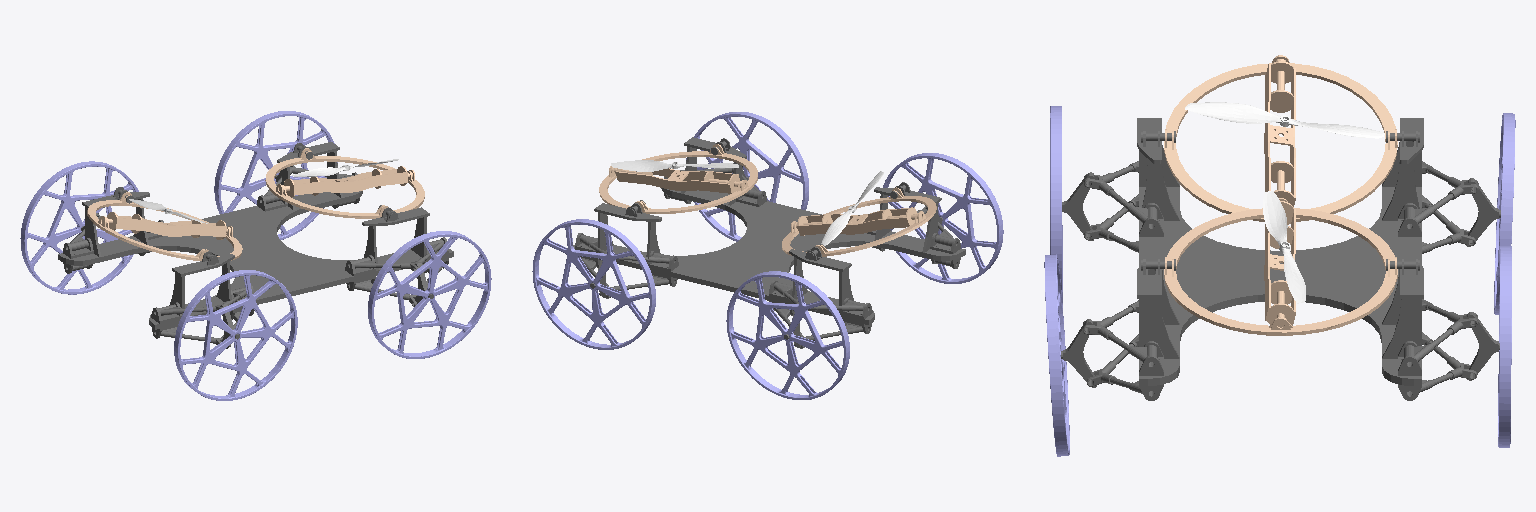
URDF robot description (wcr):
<?xml version="1.0" encoding="utf-8"?>
<!-- This URDF was automatically created by SolidWorks to URDF Exporter! Originally created by Stephen Brawner (brawner@gmail.com) 
     Commit Version: 1.6.0-4-g7f85cfe  Build Version: 1.6.7995.38578
     For more information, please see http://wiki.ros.org/sw_urdf_exporter -->
<robot
  name="wcr">
  <link
    name="base_link">
    <inertial>
      <origin
        xyz="0.173339179316469 0.249161564117283 0.498560226449958"
        rpy="0 0 0" />
      <mass
        value="1.15913352868688" />
      <inertia
        ixx="0.013266326041051"
        ixy="-2.41447331341141E-12"
        ixz="4.40344155207792E-05"
        iyy="0.0298435837404179"
        iyz="3.57155377728949E-08"
        izz="0.0175448598140055" />
    </inertial>
    <visual>
      <origin
        xyz="0 0 0"
        rpy="0 0 0" />
      <geometry>
        <mesh
          filename="package://wcr/meshes/base_link.STL" />
      </geometry>
      <material
        name="">
        <color
          rgba="0.501960784313725 0.501960784313725 0.501960784313725 1" />
      </material>
    </visual>
    <collision>
      <origin
        xyz="0 0 0"
        rpy="0 0 0" />
      <geometry>
        <mesh
          filename="package://wcr/meshes/base_link.STL" />
      </geometry>
    </collision>
  </link>
  <link
    name="wheel1">
    <inertial>
      <origin
        xyz="8.53677939421926E-07 -2.47264731600971E-06 0.0103720211226875"
        rpy="0 0 0" />
      <mass
        value="0.130552212312424" />
      <inertia
        ixx="0.000629069787955321"
        ixy="1.82875262493693E-08"
        ixz="9.26161101021166E-12"
        iyy="0.000629039631470797"
        iyz="-4.03883615855243E-11"
        izz="0.00125431132315017" />
    </inertial>
    <visual>
      <origin
        xyz="0 0 0"
        rpy="0 0 0" />
      <geometry>
        <mesh
          filename="package://wcr/meshes/wheel1.STL" />
      </geometry>
      <material
        name="">
        <color
          rgba="0.752941176470588 0.752941176470588 1 1" />
      </material>
    </visual>
    <collision>
      <origin
        xyz="0 0 0"
        rpy="0 0 0" />
      <geometry>
        <mesh
          filename="package://wcr/meshes/wheel1.STL" />
      </geometry>
    </collision>
  </link>
  <joint
    name="w1"
    type="continuous">
    <origin
      xyz="0.37577 -0.21034 0.24068"
      rpy="-1.5223 -1.3702 3.0941" />
    <parent
      link="base_link" />
    <child
      link="wheel1" />
    <axis
      xyz="0 0 1" />
  </joint>
  <link
    name="wheel2">
    <inertial>
      <origin
        xyz="8.53677939449682E-07 -2.47264731667585E-06 0.00746169437729394"
        rpy="0 0 0" />
      <mass
        value="0.130552212312421" />
      <inertia
        ixx="0.000629069787955317"
        ixy="1.82875262518163E-08"
        ixz="9.26161278813381E-12"
        iyy="0.00062903963147078"
        iyz="-4.03883643109587E-11"
        izz="0.00125431132315015" />
    </inertial>
    <visual>
      <origin
        xyz="0 0 0"
        rpy="0 0 0" />
      <geometry>
        <mesh
          filename="package://wcr/meshes/wheel2.STL" />
      </geometry>
      <material
        name="">
        <color
          rgba="0.752941176470588 0.752941176470588 1 1" />
      </material>
    </visual>
    <collision>
      <origin
        xyz="0 0 0"
        rpy="0 0 0" />
      <geometry>
        <mesh
          filename="package://wcr/meshes/wheel2.STL" />
      </geometry>
    </collision>
  </link>
  <joint
    name="w2"
    type="continuous">
    <origin
      xyz="0.37577 -0.76789 0.22907"
      rpy="1.7194 -1.1054 -0.133" />
    <parent
      link="base_link" />
    <child
      link="wheel2" />
    <axis
      xyz="0 0 1" />
  </joint>
  <link
    name="wheel3">
    <inertial>
      <origin
        xyz="8.53677941059505E-07 -2.47264731813301E-06 0.0206351914786975"
        rpy="0 0 0" />
      <mass
        value="0.130552212312425" />
      <inertia
        ixx="0.000629069787955326"
        ixy="1.82875262471639E-08"
        ixz="9.26161034190266E-12"
        iyy="0.000629039631470801"
        iyz="-4.03883624906849E-11"
        izz="0.00125431132315018" />
    </inertial>
    <visual>
      <origin
        xyz="0 0 0"
        rpy="0 0 0" />
      <geometry>
        <mesh
          filename="package://wcr/meshes/wheel3.STL" />
      </geometry>
      <material
        name="">
        <color
          rgba="0.752941176470588 0.752941176470588 1 1" />
      </material>
    </visual>
    <collision>
      <origin
        xyz="0 0 0"
        rpy="0 0 0" />
      <geometry>
        <mesh
          filename="package://wcr/meshes/wheel3.STL" />
      </geometry>
    </collision>
  </link>
  <joint
    name="w3"
    type="continuous">
    <origin
      xyz="-0.029226470150854 -0.20055123734307 0.23196294752624"
      rpy="-1.26888284562144 -1.41496478334904 2.84312289791574" />
    <parent
      link="base_link" />
    <child
      link="wheel3" />
    <axis
      xyz="0 0 1" />
  </joint>
  <link
    name="wheel4">
    <inertial>
      <origin
        xyz="8.53662337985117E-07 -2.47263927080632E-06 0.00752817089421909"
        rpy="0 0 0" />
      <mass
        value="0.130552212305838" />
      <inertia
        ixx="0.00062906978797434"
        ixy="1.82874590826523E-08"
        ixz="9.25274866466641E-12"
        iyy="0.000629039631417483"
        iyz="-4.03399552804272E-11"
        izz="0.00125431132310261" />
    </inertial>
    <visual>
      <origin
        xyz="0 0 0"
        rpy="0 0 0" />
      <geometry>
        <mesh
          filename="package://wcr/meshes/wheel4.STL" />
      </geometry>
      <material
        name="">
        <color
          rgba="0.752941176470588 0.752941176470588 1 1" />
      </material>
    </visual>
    <collision>
      <origin
        xyz="0 0 0"
        rpy="0 0 0" />
      <geometry>
        <mesh
          filename="package://wcr/meshes/wheel4.STL" />
      </geometry>
    </collision>
  </link>
  <joint
    name="w4"
    type="continuous">
    <origin
      xyz="-0.029226 -0.76879 0.24275"
      rpy="1.5714 0.44874 0.00026651" />
    <parent
      link="base_link" />
    <child
      link="wheel4" />
    <axis
      xyz="0 0 1" />
  </joint>
  <link
    name="front_fan_outer_ring">
    <inertial>
      <origin
        xyz="0.000336142954789953 -0.00801739641185661 -0.145"
        rpy="0 0 0" />
      <mass
        value="0.0813752140022557" />
      <inertia
        ixx="0.000645491172285435"
        ixy="-2.16840434497101E-19"
        ixz="-5.80349917767204E-20"
        iyy="0.00130705884679793"
        iyz="8.4914708530339E-07"
        izz="0.000662794424012404" />
    </inertial>
    <visual>
      <origin
        xyz="0 0 0"
        rpy="0 0 0" />
      <geometry>
        <mesh
          filename="package://wcr/meshes/front_fan_outer_ring.STL" />
      </geometry>
      <material
        name="">
        <color
          rgba="0.996078431372549 0.870588235294118 0.76078431372549 1" />
      </material>
    </visual>
    <collision>
      <origin
        xyz="0 0 0"
        rpy="0 0 0" />
      <geometry>
        <mesh
          filename="package://wcr/meshes/front_fan_outer_ring.STL" />
      </geometry>
    </collision>
  </link>
  <joint
    name="f_or"
    type="revolute">
    <origin
      xyz="0.36077 -0.35351 0.34537"
      rpy="1.5708 -0.12715 3.1416" />
    <parent
      link="base_link" />
    <child
      link="front_fan_outer_ring" />
    <axis
      xyz="0 0 1" />
    <limit
      lower="3.14"
      upper="-3.14"
      effort="30"
      velocity="100" />
  </joint>
  <link
    name="fron_fan_inner_link">
    <inertial>
      <origin
        xyz="5.55111512312578E-17 -0.000994221307817456 1.11022302462516E-16"
        rpy="0 0 0" />
      <mass
        value="0.0365268438821865" />
      <inertia
        ixx="9.24509515375344E-06"
        ixy="5.88887588829746E-19"
        ixz="-6.24183712919044E-20"
        iyy="0.000217471782194845"
        iyz="-3.04931861011548E-20"
        izz="0.000212158016314981" />
    </inertial>
    <visual>
      <origin
        xyz="0 0 0"
        rpy="0 0 0" />
      <geometry>
        <mesh
          filename="package://wcr/meshes/fron_fan_inner_link.STL" />
      </geometry>
      <material
        name="">
        <color
          rgba="0.996078431372549 0.870588235294118 0.76078431372549 1" />
      </material>
    </visual>
    <collision>
      <origin
        xyz="0 0 0"
        rpy="0 0 0" />
      <geometry>
        <mesh
          filename="package://wcr/meshes/fron_fan_inner_link.STL" />
      </geometry>
    </collision>
  </link>
  <joint
    name="f_il"
    type="revolute">
    <origin
      xyz="0 0 -0.145"
      rpy="0.19686 0 0" />
    <parent
      link="front_fan_outer_ring" />
    <child
      link="fron_fan_inner_link" />
    <axis
      xyz="1 0 0" />
    <limit
      lower="-3.14"
      upper="3.14"
      effort="30"
      velocity="100" />
  </joint>
  <link
    name="front_fan">
    <inertial>
      <origin
        xyz="7.27298450686753E-07 -0.0253085830919659 -4.9768149905649E-06"
        rpy="0 0 0" />
      <mass
        value="0.00485849949752118" />
      <inertia
        ixx="2.01183165912553E-05"
        ixy="2.39175756709515E-12"
        ixz="9.24093735781724E-07"
        iyy="2.02825518979944E-05"
        iyz="-1.45406913624821E-11"
        izz="1.95118463387398E-07" />
    </inertial>
    <visual>
      <origin
        xyz="0 0 0"
        rpy="0 0 0" />
      <geometry>
        <mesh
          filename="package://wcr/meshes/front_fan.STL" />
      </geometry>
      <material
        name="">
        <color
          rgba="1 1 1 1" />
      </material>
    </visual>
    <collision>
      <origin
        xyz="0 0 0"
        rpy="0 0 0" />
      <geometry>
        <mesh
          filename="package://wcr/meshes/front_fan.STL" />
      </geometry>
    </collision>
  </link>
  <joint
    name="f"
    type="continuous">
    <origin
      xyz="0 0 0"
      rpy="3.1416 -1.4511 0" />
    <parent
      link="fron_fan_inner_link" />
    <child
      link="front_fan" />
    <axis
      xyz="0 1 0" />
  </joint>
  <link
    name="rear_fan_outer_ring">
    <inertial>
      <origin
        xyz="0.000336142954789953 -0.0080173964118565 0.145"
        rpy="0 0 0" />
      <mass
        value="0.0813752140022557" />
      <inertia
        ixx="0.000645491172285437"
        ixy="-2.03287907341032E-19"
        ixz="1.62524446754419E-20"
        iyy="0.00130705884679794"
        iyz="8.49147085303455E-07"
        izz="0.000662794424012407" />
    </inertial>
    <visual>
      <origin
        xyz="0 0 0"
        rpy="0 0 0" />
      <geometry>
        <mesh
          filename="package://wcr/meshes/rear_fan_outer_ring.STL" />
      </geometry>
      <material
        name="">
        <color
          rgba="0.996078431372549 0.870588235294118 0.76078431372549 1" />
      </material>
    </visual>
    <collision>
      <origin
        xyz="0 0 0"
        rpy="0 0 0" />
      <geometry>
        <mesh
          filename="package://wcr/meshes/rear_fan_outer_ring.STL" />
      </geometry>
    </collision>
  </link>
  <joint
    name="r_or"
    type="revolute">
    <origin
      xyz="-0.014226 -0.35351 0.34537"
      rpy="1.5708 0.29859 0" />
    <parent
      link="base_link" />
    <child
      link="rear_fan_outer_ring" />
    <axis
      xyz="0 0 1" />
    <limit
      lower="-3.14"
      upper="3.14"
      effort="30"
      velocity="100" />
  </joint>
  <link
    name="rear_fan_inner_link">
    <inertial>
      <origin
        xyz="-5.55111512312578E-17 -0.0009942213078174 1.11022302462516E-16"
        rpy="0 0 0" />
      <mass
        value="0.0365268438821867" />
      <inertia
        ixx="9.24509515375361E-06"
        ixy="-1.8994441005771E-20"
        ixz="4.60700704059862E-20"
        iyy="0.000217471782194847"
        iyz="4.06575814682064E-20"
        izz="0.000212158016314983" />
    </inertial>
    <visual>
      <origin
        xyz="0 0 0"
        rpy="0 0 0" />
      <geometry>
        <mesh
          filename="package://wcr/meshes/rear_fan_inner_link.STL" />
      </geometry>
      <material
        name="">
        <color
          rgba="0.996078431372549 0.870588235294118 0.76078431372549 1" />
      </material>
    </visual>
    <collision>
      <origin
        xyz="0 0 0"
        rpy="0 0 0" />
      <geometry>
        <mesh
          filename="package://wcr/meshes/rear_fan_inner_link.STL" />
      </geometry>
    </collision>
  </link>
  <joint
    name="r_il"
    type="revolute">
    <origin
      xyz="0 0 0.145"
      rpy="-0.19946 0 0" />
    <parent
      link="rear_fan_outer_ring" />
    <child
      link="rear_fan_inner_link" />
    <axis
      xyz="1 0 0" />
    <limit
      lower="-3.14"
      upper="3.14"
      effort="30"
      velocity="100" />
  </joint>
  <link
    name="rear_fan">
    <inertial>
      <origin
        xyz="-1.33705306049059E-07 0.0280362445781921 1.49538768468016E-06"
        rpy="0 0 0" />
      <mass
        value="0.0048581759238917" />
      <inertia
        ixx="2.01198247751546E-05"
        ixy="9.44279160448321E-13"
        ixz="9.24269412841832E-07"
        iyy="2.02840783888916E-05"
        iyz="-1.09703534971134E-12"
        izz="1.95136657643795E-07" />
    </inertial>
    <visual>
      <origin
        xyz="0 0 0"
        rpy="0 0 0" />
      <geometry>
        <mesh
          filename="package://wcr/meshes/rear_fan.STL" />
      </geometry>
      <material
        name="">
        <color
          rgba="1 1 1 1" />
      </material>
    </visual>
    <collision>
      <origin
        xyz="0 0 0"
        rpy="0 0 0" />
      <geometry>
        <mesh
          filename="package://wcr/meshes/rear_fan.STL" />
      </geometry>
    </collision>
  </link>
  <joint
    name="r"
    type="continuous">
    <origin
      xyz="0 0 0"
      rpy="0 0.047658 0" />
    <parent
      link="rear_fan_inner_link" />
    <child
      link="rear_fan" />
    <axis
      xyz="0 1 0" />

  </joint>
</robot>

--- Render facts (derived) ---
The picture shows the robot from 3 angles, left to right: view 1: azimuth 30°, elevation 25°; view 2: azimuth 150°, elevation 25°; view 3: azimuth 270°, elevation 25°; orthographic projection.
Robot: wcr — 11 links, 10 joints (4 revolute, 6 continuous); root link base_link; default pose: all joints at 0.
Visible links, largest first — view 1: base_link, wheel4, wheel2, wheel3, wheel1, front_fan_outer_ring, fron_fan_inner_link, rear_fan_inner_link, rear_fan_outer_ring; view 2: base_link, wheel1, wheel3, wheel4, wheel2, front_fan_outer_ring, fron_fan_inner_link, rear_fan_inner_link, rear_fan_outer_ring, front_fan, rear_fan; view 3: base_link, rear_fan_outer_ring, front_fan_outer_ring, wheel2, rear_fan_inner_link, wheel1, wheel3, rear_fan, fron_fan_inner_link, wheel4, front_fan.
Boxes of the visible links, left/top/right/bottom form: base_link: left=58, top=142, right=453, bottom=348; wheel4: left=174, top=270, right=297, bottom=400; wheel2: left=368, top=231, right=491, bottom=358; wheel3: left=20, top=161, right=138, bottom=294; wheel1: left=214, top=111, right=337, bottom=239; front_fan_outer_ring: left=265, top=148, right=424, bottom=218; fron_fan_inner_link: left=284, top=166, right=407, bottom=197; rear_fan_inner_link: left=107, top=212, right=226, bottom=239; rear_fan_outer_ring: left=87, top=192, right=242, bottom=260; base_link: left=573, top=137, right=965, bottom=348; wheel1: left=532, top=219, right=655, bottom=349; wheel3: left=726, top=271, right=849, bottom=399; wheel4: left=883, top=153, right=1003, bottom=283; wheel2: left=686, top=112, right=808, bottom=241; front_fan_outer_ring: left=599, top=144, right=757, bottom=213; fron_fan_inner_link: left=616, top=168, right=739, bottom=193; rear_fan_inner_link: left=797, top=207, right=916, bottom=235; rear_fan_outer_ring: left=782, top=187, right=936, bottom=256; front_fan: left=611, top=160, right=738, bottom=171; rear_fan: left=821, top=171, right=883, bottom=245; base_link: left=1061, top=118, right=1500, bottom=400; rear_fan_outer_ring: left=1164, top=55, right=1397, bottom=221; front_fan_outer_ring: left=1164, top=198, right=1397, bottom=335; wheel2: left=1044, top=254, right=1069, bottom=456; rear_fan_inner_link: left=1264, top=61, right=1295, bottom=206; wheel1: left=1498, top=246, right=1511, bottom=447; wheel3: left=1494, top=113, right=1515, bottom=314; rear_fan: left=1185, top=102, right=1384, bottom=138; fron_fan_inner_link: left=1264, top=201, right=1295, bottom=325; wheel4: left=1050, top=106, right=1062, bottom=302; front_fan: left=1263, top=191, right=1305, bottom=303.
Bounding box of the posed robot: 0.6599 × 0.5832 × 0.2943 m (x, y, z).
11 mesh visuals loaded from 11 distinct referenced files (11 binary STL).
